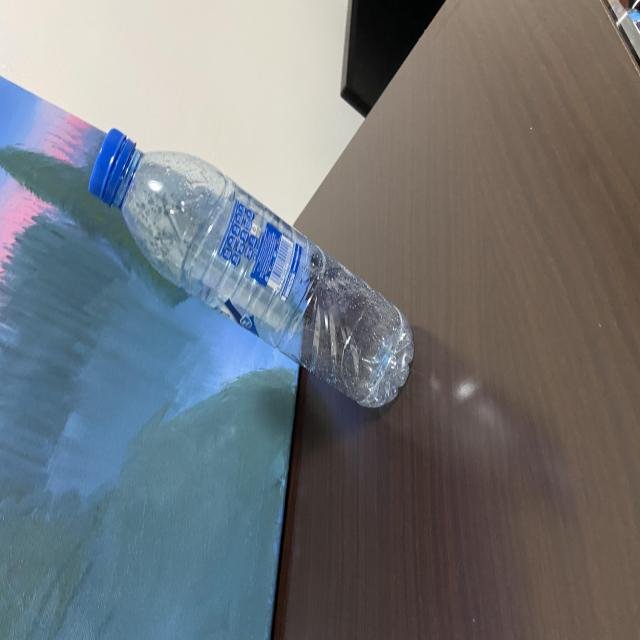plastic: (83, 125, 415, 409)
